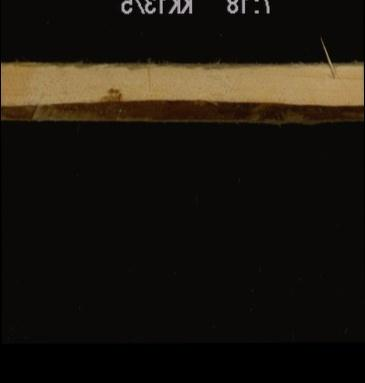wave: (0, 91, 363, 125)
